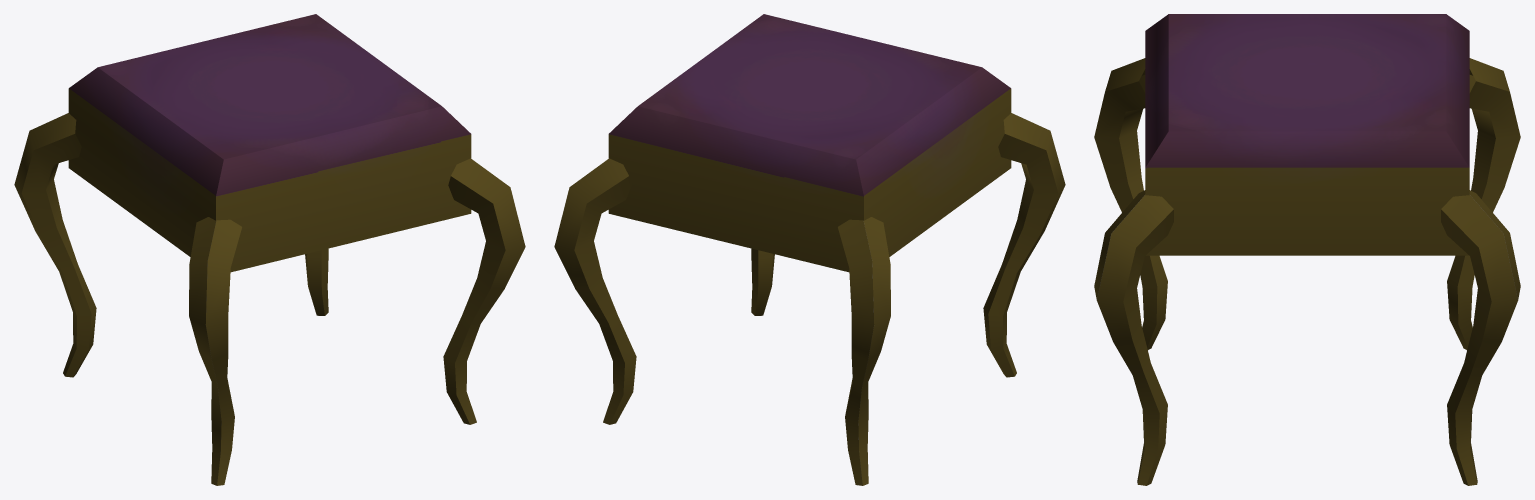
Rendered from 05 silla peq.obj.
The picture shows the model from 3 angles, left to right: view 1: azimuth 30°, elevation 25°; view 2: azimuth 150°, elevation 25°; view 3: azimuth 270°, elevation 25°; orthographic projection. The views are drawn at different scales.
Parts seen in each view (by area): view 1: pCube1, sweep2; view 2: pCube1, sweep2; view 3: pCube1, sweep2.
Boxes of the visible parts, box(x1,y1,x2,y2) form: pCube1: box(68, 14, 471, 272); sweep2: box(14, 113, 525, 485); pCube1: box(608, 14, 1011, 272); sweep2: box(554, 113, 1065, 485); pCube1: box(1145, 14, 1469, 255); sweep2: box(1094, 58, 1520, 485).
Bounding box in the file's own units: 50.19 × 45.44 × 51.14.
2 materials, 2 textured.
